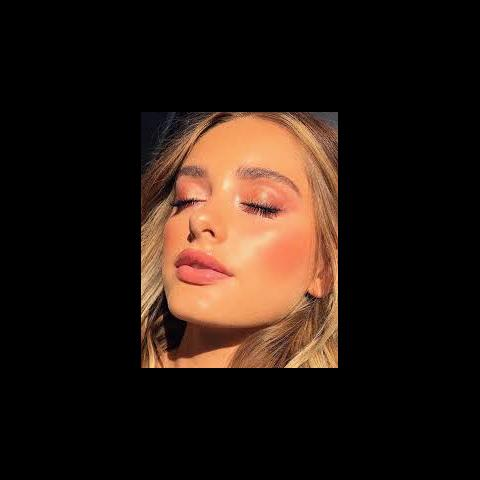closed: (168, 162, 302, 228)
